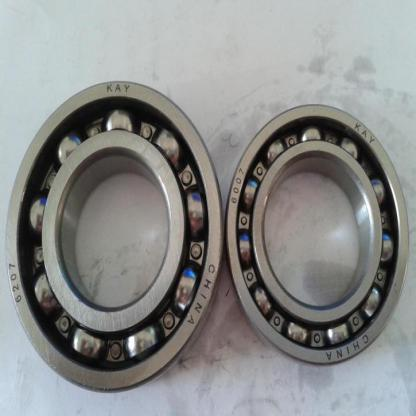FOD: (3, 75, 226, 398), (224, 96, 413, 372)
